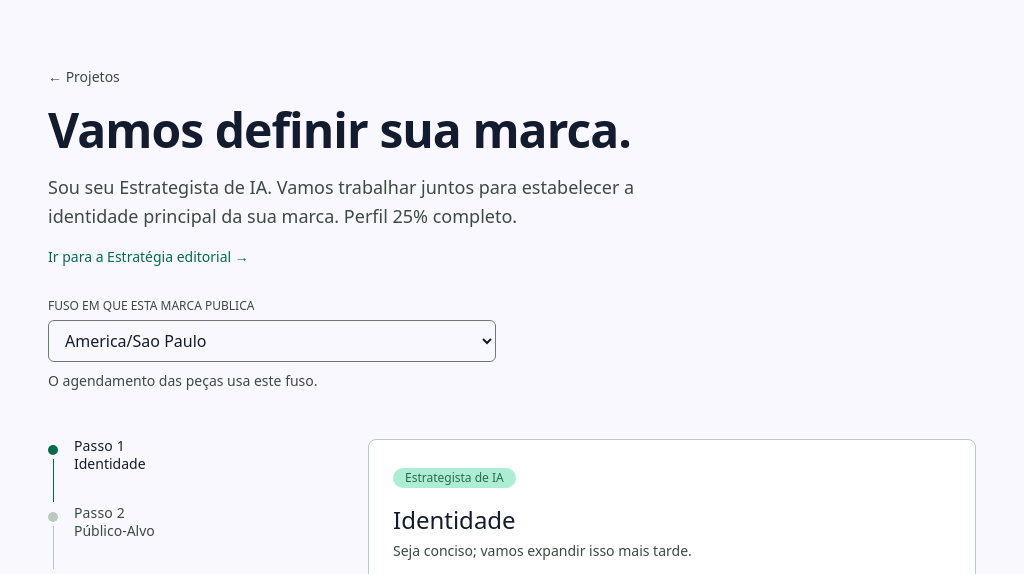
falha ao salvar o fuso é avisada, não fica em silêncio
Select "Europe/Lisbon" in the dropdown labelled "Fuso em que esta marca publica": (272, 341) [48, 320, 496, 362]
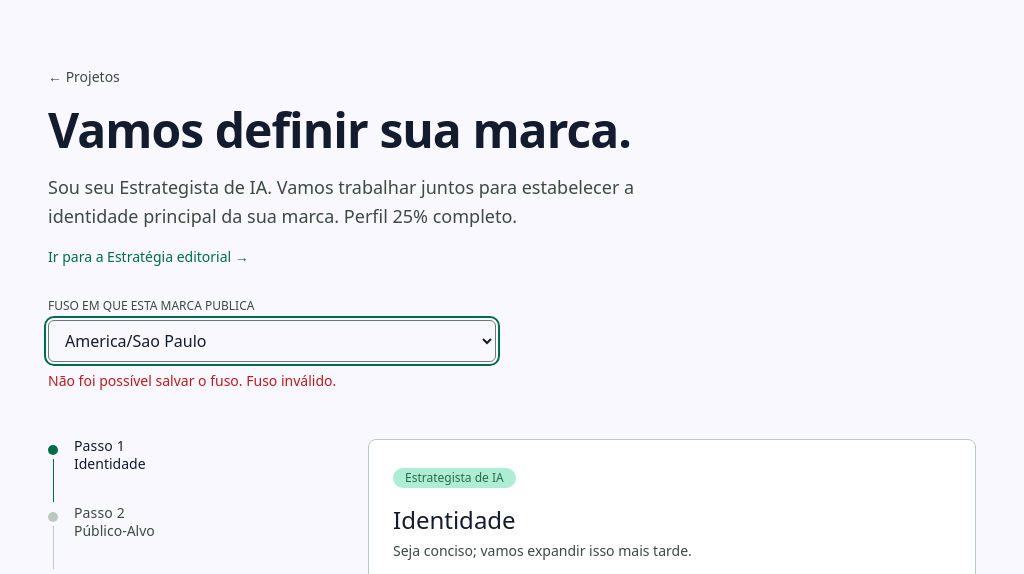
Check: the text "Não foi possível salvar o fuso. Fuso inválido." is shown, box [48, 371, 336, 390]
